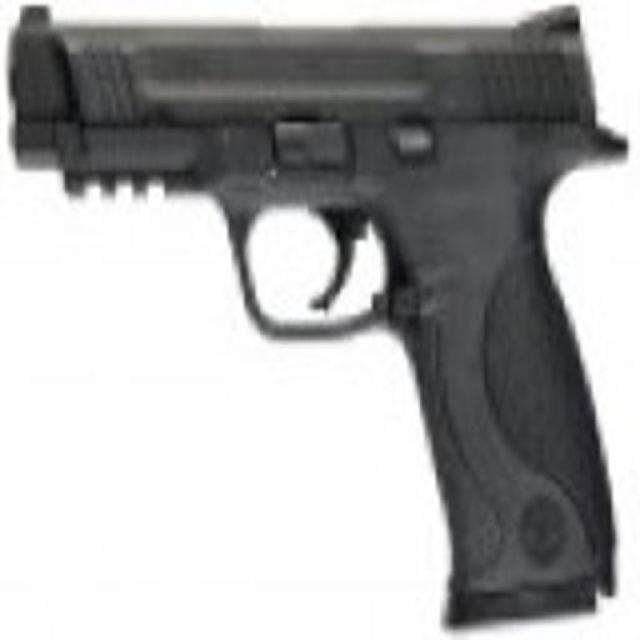pistol: (20, 5, 615, 634)
